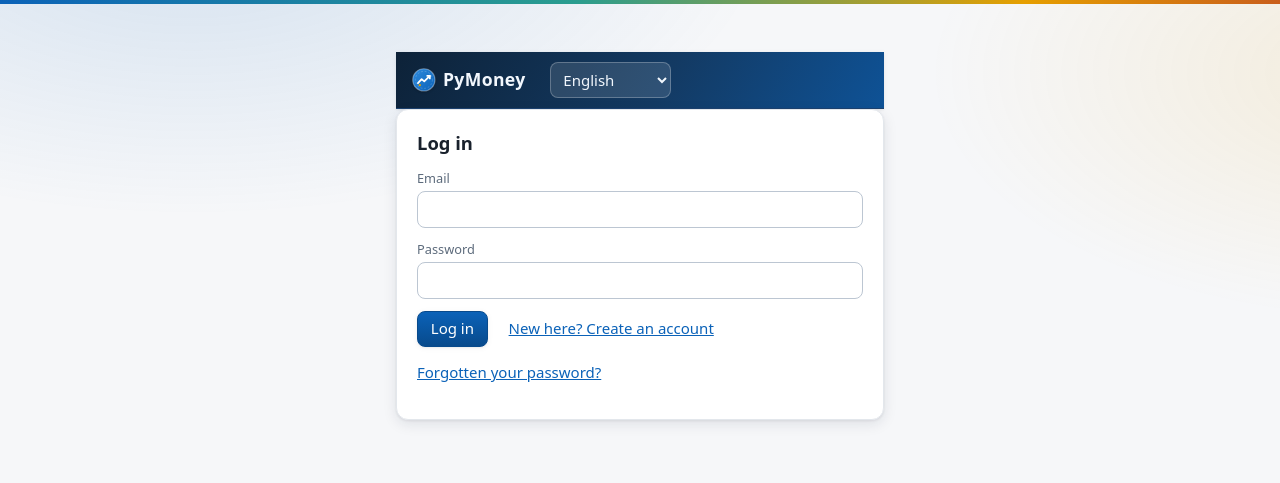
Test: the login page speaks the chosen language before anyone is logged in, and registers with it
The image size is (1280, 483).
Step 1. Select "Nederlands" in the dropdown named "Language" → [610, 80], box [550, 62, 671, 98]
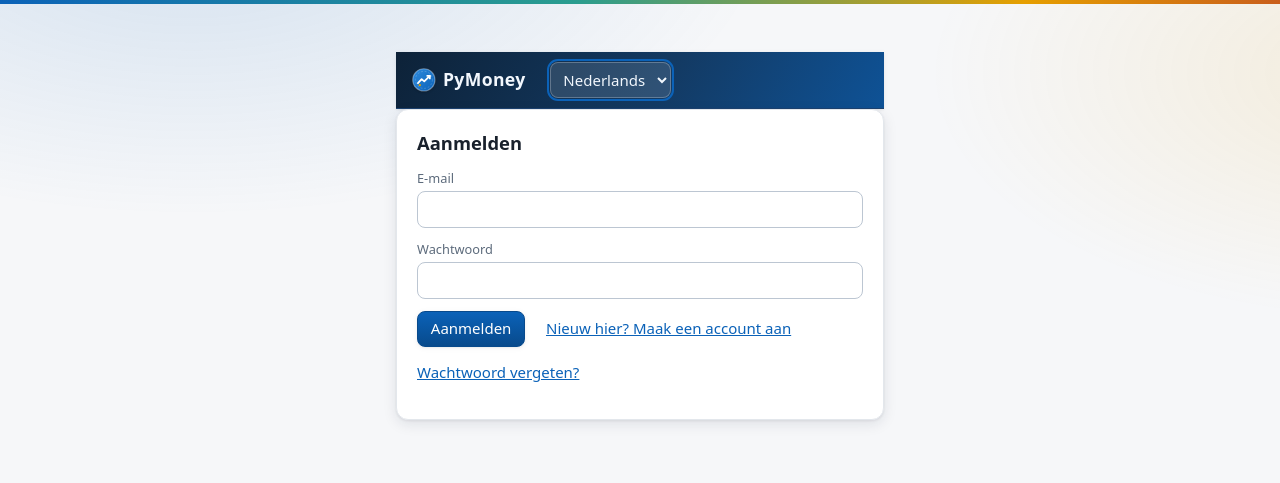
Check: the heading "Aanmelden" is shown, box [417, 130, 522, 155]
Step 2. Click the button "Nieuw hier? Maak een account aan" → [669, 329], box [533, 312, 804, 346]
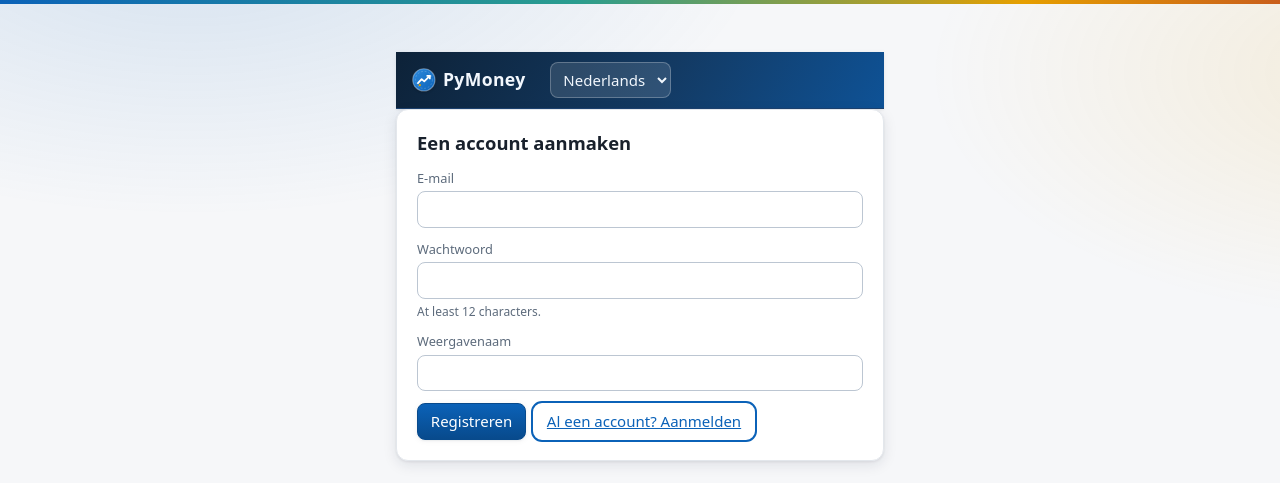
Step 3. Type "n@x.com" into the field labelled "E-mail" → [640, 209], box [417, 191, 863, 228]
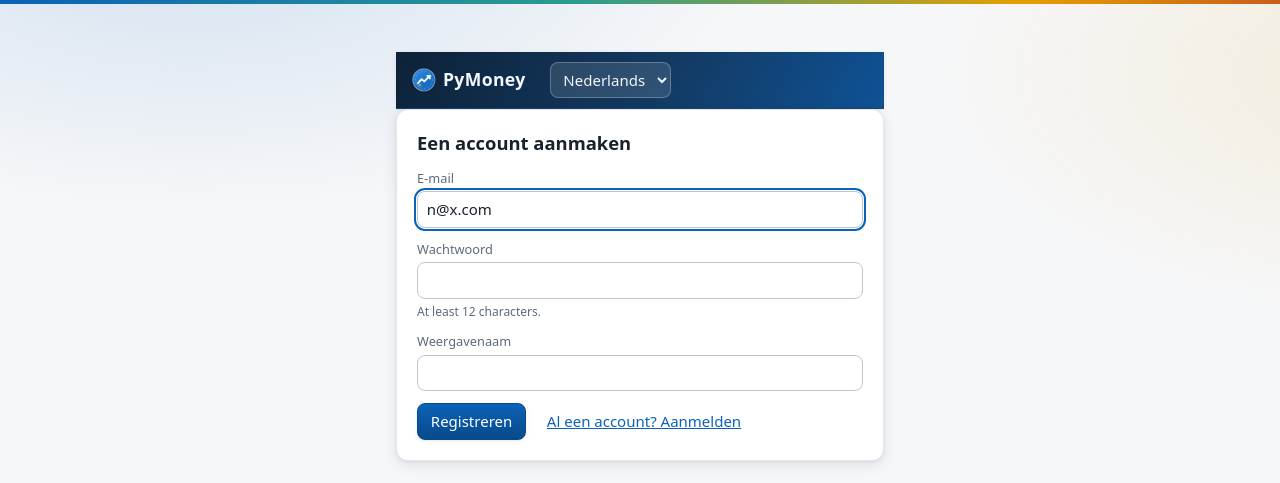
Step 4. Type "correct horse battery staple" into the password field labelled "Wachtwoord" → [640, 281], box [417, 262, 863, 299]
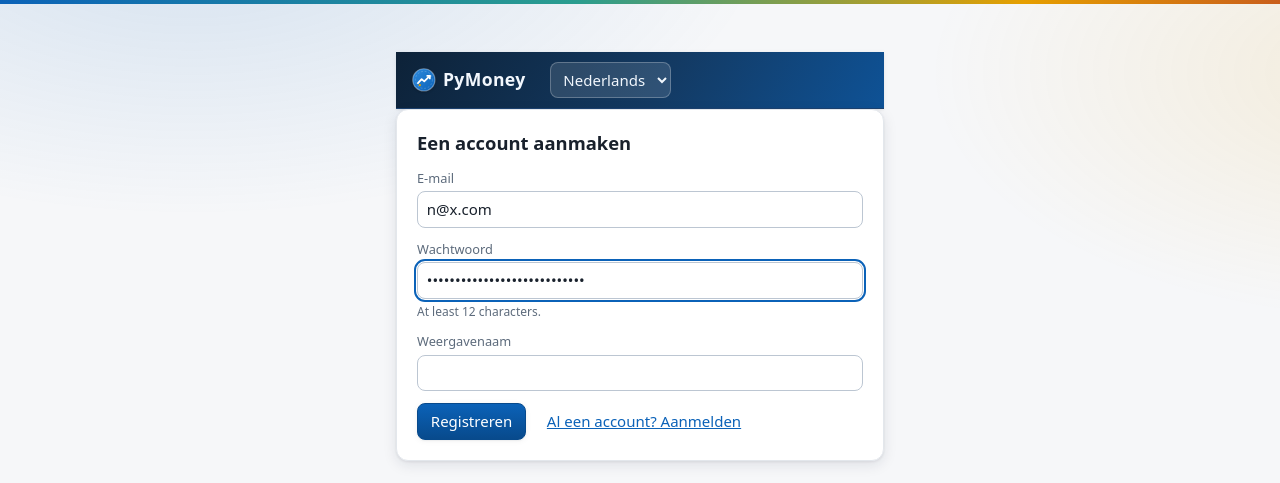
Step 5. Click the button "Registreren" → [472, 422], box [417, 403, 526, 440]
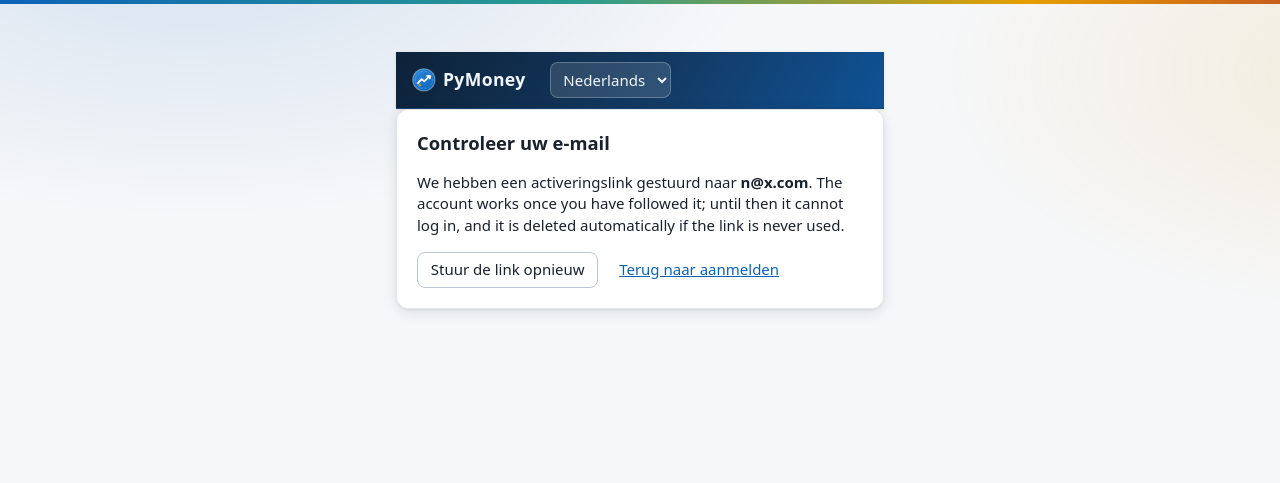
Check: the heading "Controleer uw e-mail" is shown, box [417, 130, 610, 155]
